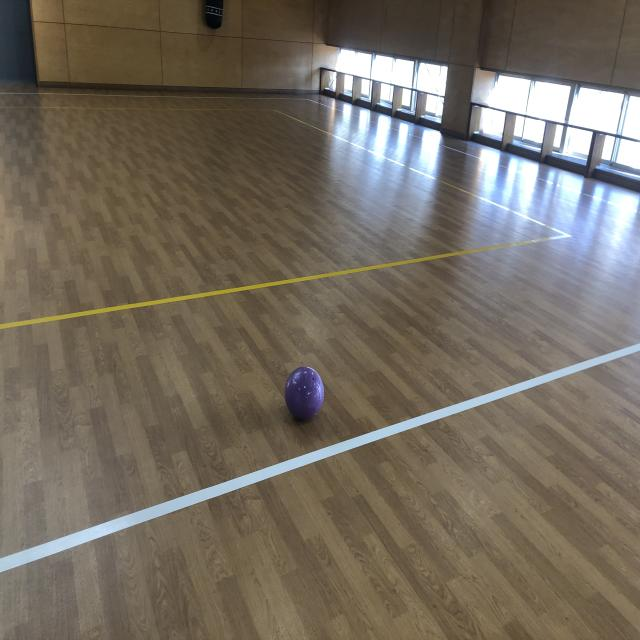purple_ball: (284, 364, 325, 422)
